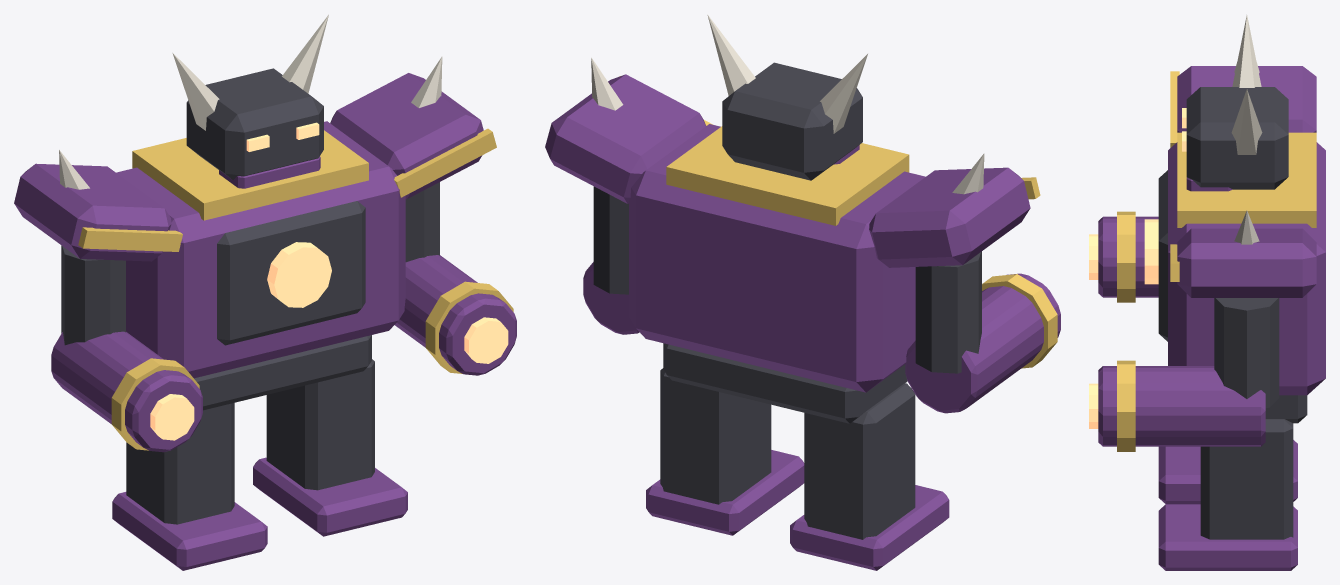
Rendered from Remodel_Boss.fbx.
3 renders of one model, left to right at view 1: azimuth 30°, elevation 25°; view 2: azimuth 150°, elevation 25°; view 3: azimuth 270°, elevation 25°, orthographic. The views are drawn at different scales.
Visible parts, largest first — view 1: Torso.001, ChestPlate, Leg.003, Head.002, ShoulderPad, Leg.002, ShoulderPad.001, Cannon, Collar, Cannon.001, Foot, Foot.001 (+14 smaller); view 2: Torso.001, Leg.002, Leg.003, Head.002, ShoulderPad, ShoulderPad.001, Collar, Cannon, Pelvis, UpperArm, Foot, Foot.001 (+7 smaller); view 3: Torso.001, Cannon.001, Leg.003, ShoulderPad.001, Head.002, Collar, UpperArm.001, Foot.001, ShoulderPad, Foot, Cannon, CannonRing (+11 smaller).
Boxes of the visible parts, x1,y1,x2,y2 form: Torso.001: [116, 121, 405, 378]; ChestPlate: [217, 201, 365, 345]; Leg.003: [266, 359, 374, 490]; Head.002: [186, 68, 323, 179]; ShoulderPad: [14, 163, 171, 261]; Leg.002: [126, 403, 234, 524]; ShoulderPad.001: [330, 73, 483, 199]; Cannon: [51, 331, 202, 452]; Collar: [132, 130, 368, 220]; Cannon.001: [395, 255, 516, 375]; Foot: [112, 492, 267, 570]; Foot.001: [253, 457, 407, 536]; Torso.001: [629, 124, 925, 392]; Leg.002: [804, 383, 915, 539]; Leg.003: [660, 368, 771, 504]; Head.002: [722, 62, 862, 180]; ShoulderPad: [869, 167, 1030, 267]; ShoulderPad.001: [545, 74, 705, 203]; Collar: [666, 126, 909, 225]; Cannon: [905, 273, 1060, 413]; Pelvis: [663, 343, 907, 423]; UpperArm: [915, 251, 981, 373]; Foot: [790, 485, 949, 570]; Foot.001: [646, 450, 804, 535]; Torso.001: [1168, 142, 1325, 395]; Cannon.001: [1098, 366, 1265, 446]; Leg.003: [1200, 419, 1293, 539]; ShoulderPad.001: [1177, 228, 1316, 297]; Head.002: [1186, 87, 1288, 189]; Collar: [1177, 132, 1316, 227]; UpperArm.001: [1214, 298, 1279, 408]; Foot.001: [1158, 504, 1297, 570]; ShoulderPad: [1177, 66, 1316, 132]; Foot: [1158, 440, 1297, 504]; Cannon: [1098, 216, 1158, 297]; CannonRing: [1117, 211, 1135, 302].
Bounding box in the file's own units: 1.01 × 1.11 × 0.51.
